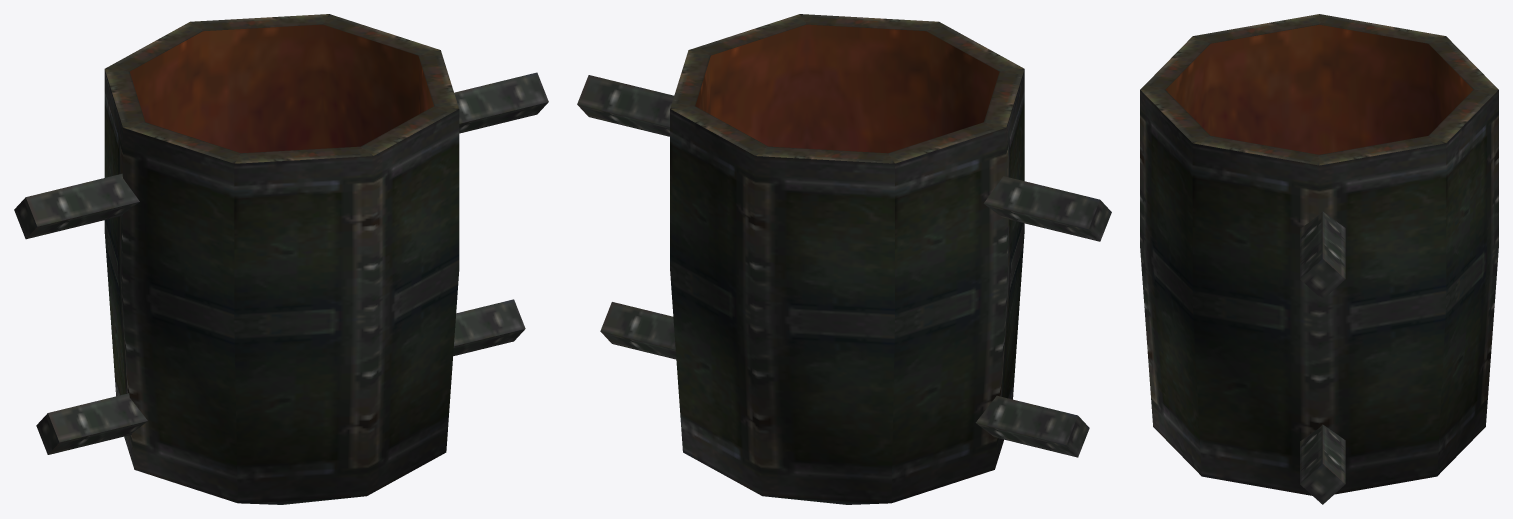
Rendered from environment_Building_yingdi_hantianta_002_h.FBX.
3 views of the same model, side by side, from view 1: azimuth 30°, elevation 25°; view 2: azimuth 150°, elevation 25°; view 3: azimuth 270°, elevation 25° (orthographic). The views are drawn at different scales.
Visible parts, largest first — view 1: environment_Building_yingdi_hantianta_002_h; view 2: environment_Building_yingdi_hantianta_002_h; view 3: environment_Building_yingdi_hantianta_002_h.
Part boxes in pixels (x1,y1,x2,y2): environment_Building_yingdi_hantianta_002_h: (14,14,548,504); environment_Building_yingdi_hantianta_002_h: (577,14,1111,504); environment_Building_yingdi_hantianta_002_h: (1140,14,1498,504).
Bounding box in the file's own units: 3544 × 2202 × 2754.
